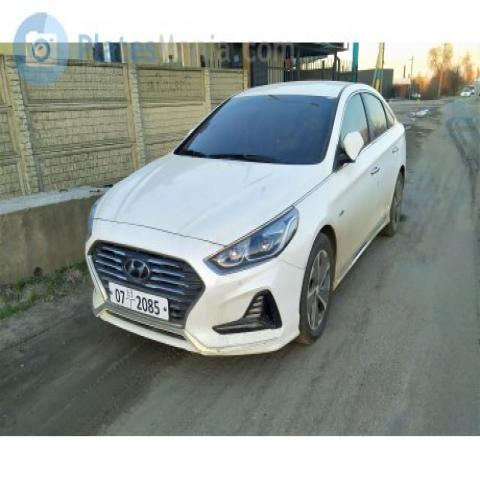LP: (105, 277, 174, 327)
